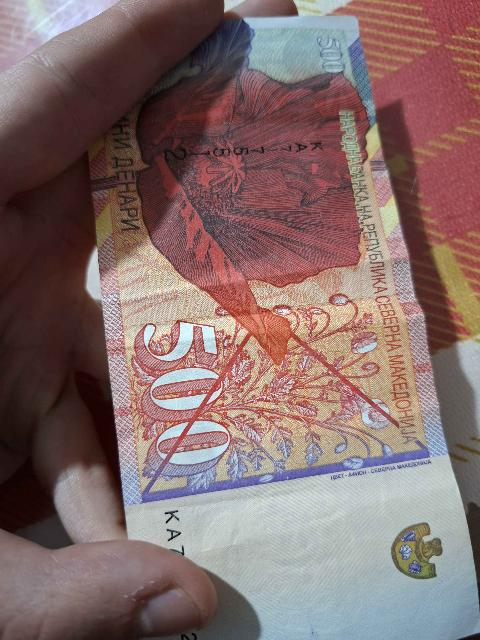500_note: (91, 18, 479, 639)
